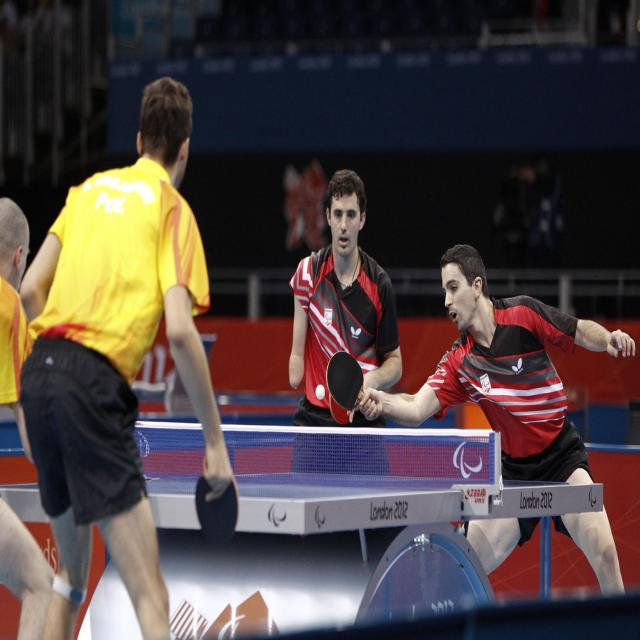TT Net: (52, 412, 507, 491)
TT Racket: (315, 341, 370, 416), (192, 468, 242, 548), (316, 370, 360, 431)
TT Table: (0, 469, 604, 504)
